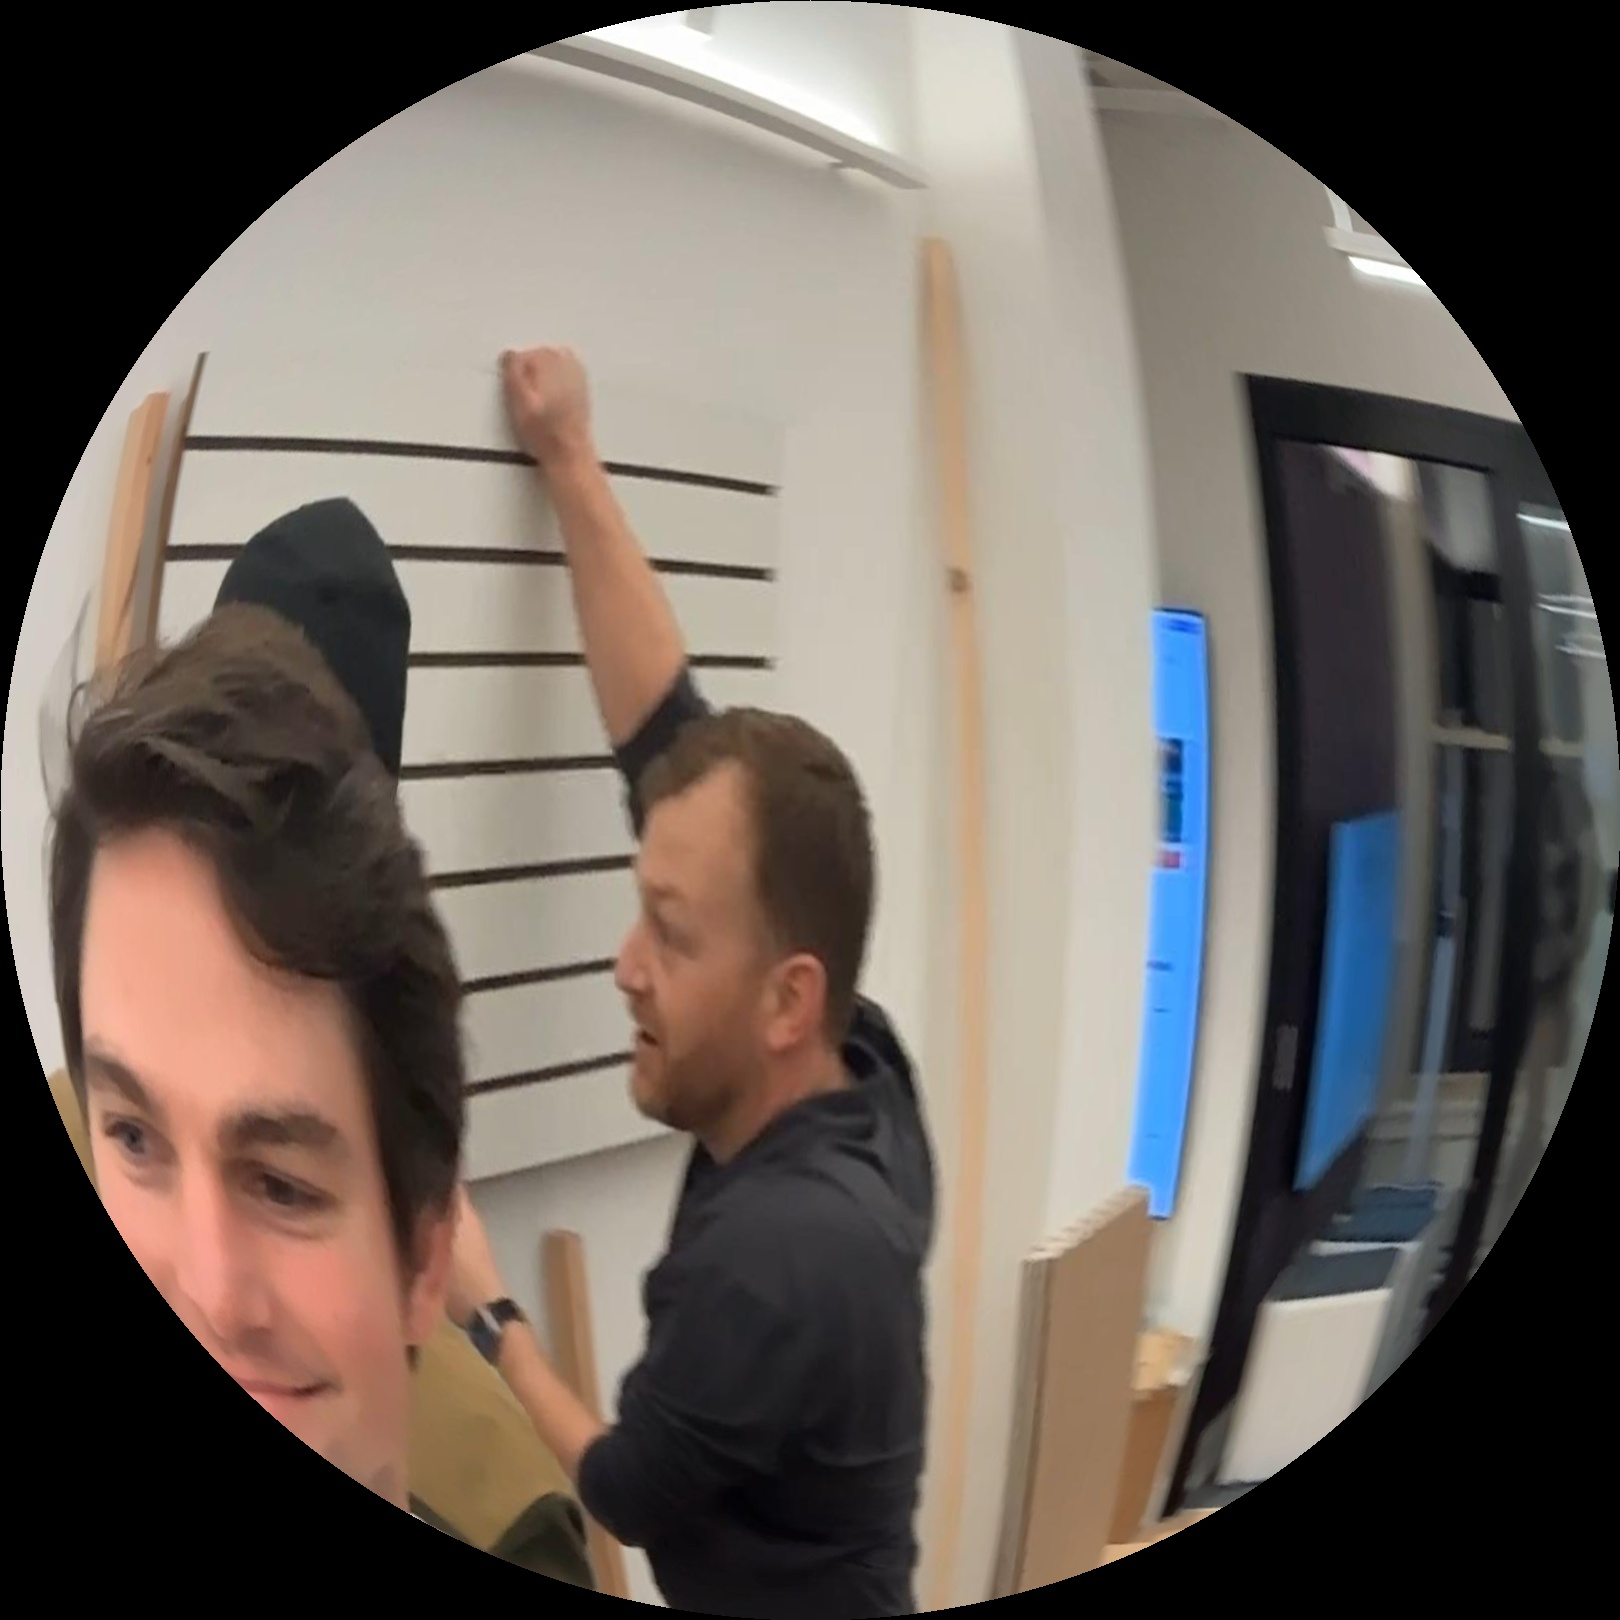face: (62, 863, 482, 1550), (617, 704, 855, 1140)
